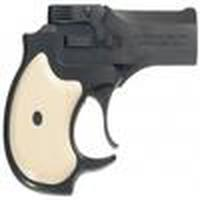gun: (7, 4, 198, 195)
